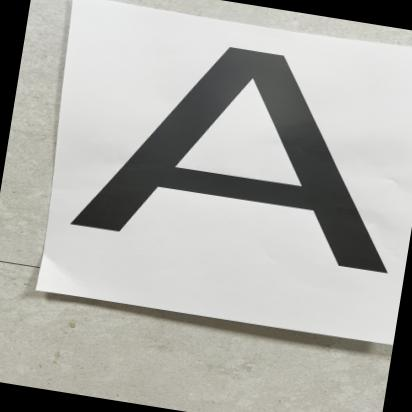seat: (43, 16, 412, 328)
